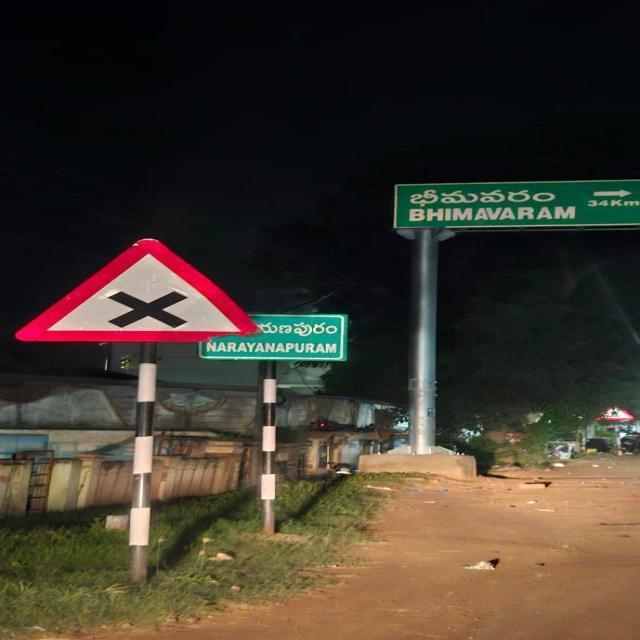cross road: (15, 238, 260, 343)
